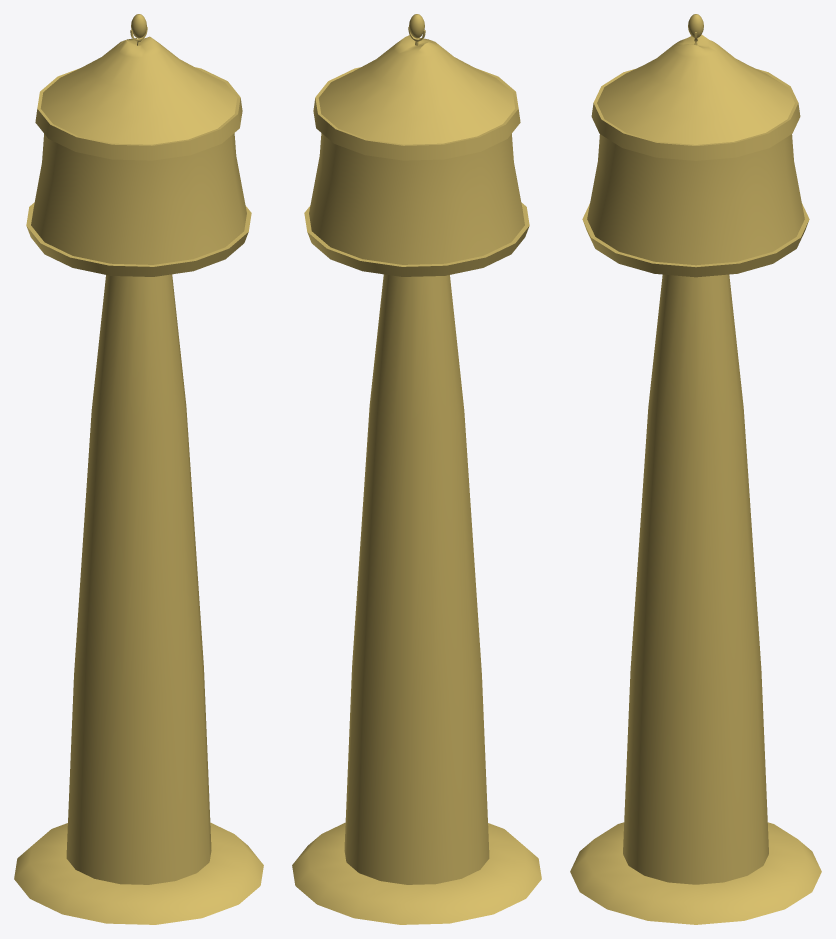
Rendered from GR Lamp 3.fbx.
The picture shows the model from 3 angles, left to right: view 1: azimuth 30°, elevation 25°; view 2: azimuth 150°, elevation 25°; view 3: azimuth 270°, elevation 25°; orthographic projection.
Parts seen in each view (by area): view 1: Body, Screen; view 2: Body, Screen; view 3: Body, Screen.
Boxes of the visible parts, left/top/right/bottom form: Body: left=14, top=36, right=263, bottom=924; Screen: left=31, top=133, right=246, bottom=264; Body: left=292, top=35, right=541, bottom=924; Screen: left=309, top=133, right=524, bottom=264; Body: left=570, top=34, right=821, bottom=924; Screen: left=587, top=134, right=804, bottom=265.
Bounding box in the file's own units: 48.59 × 182 × 48.59.
